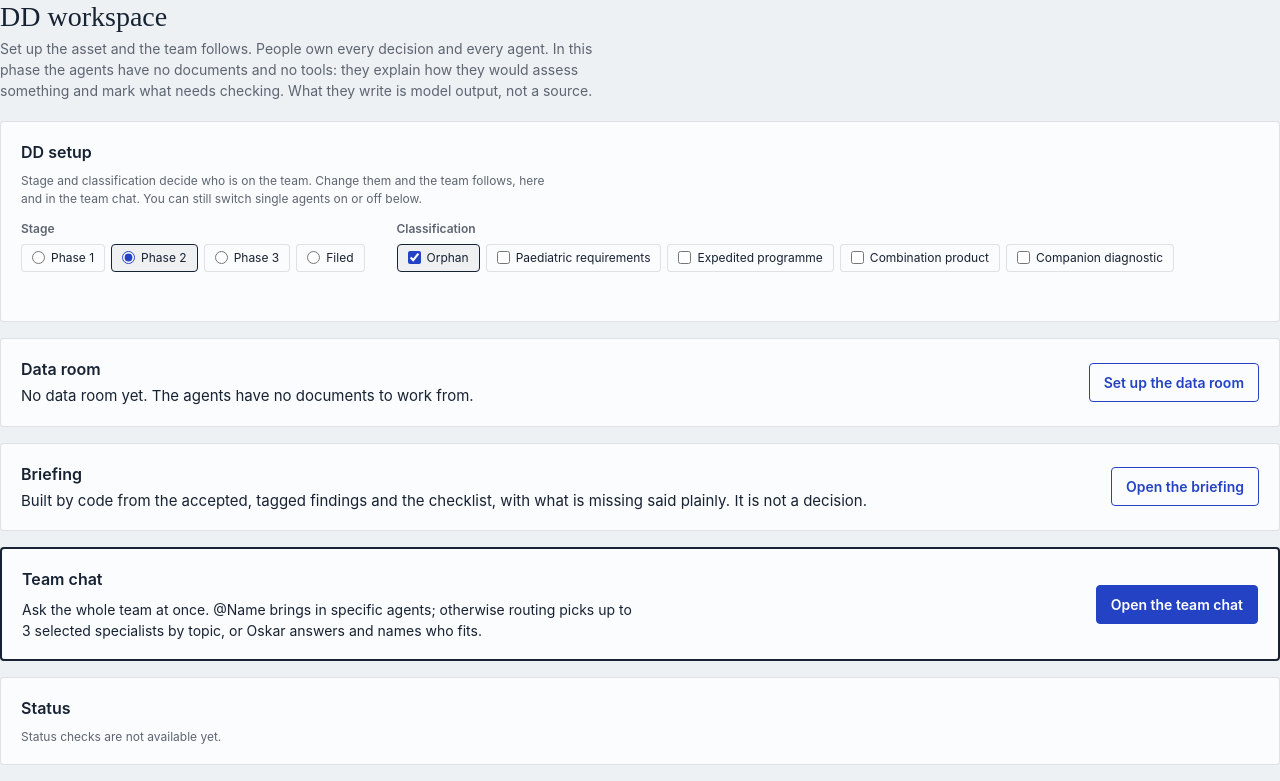
Test case: WorkspaceHome › moves the team when the stage changes: the card, the switch, the count and the note all follow from one save
Click the radio button labelled "Phase 3".
click(221, 258)  # box x1=215 y1=251 x2=228 y2=264
(page scrolled)
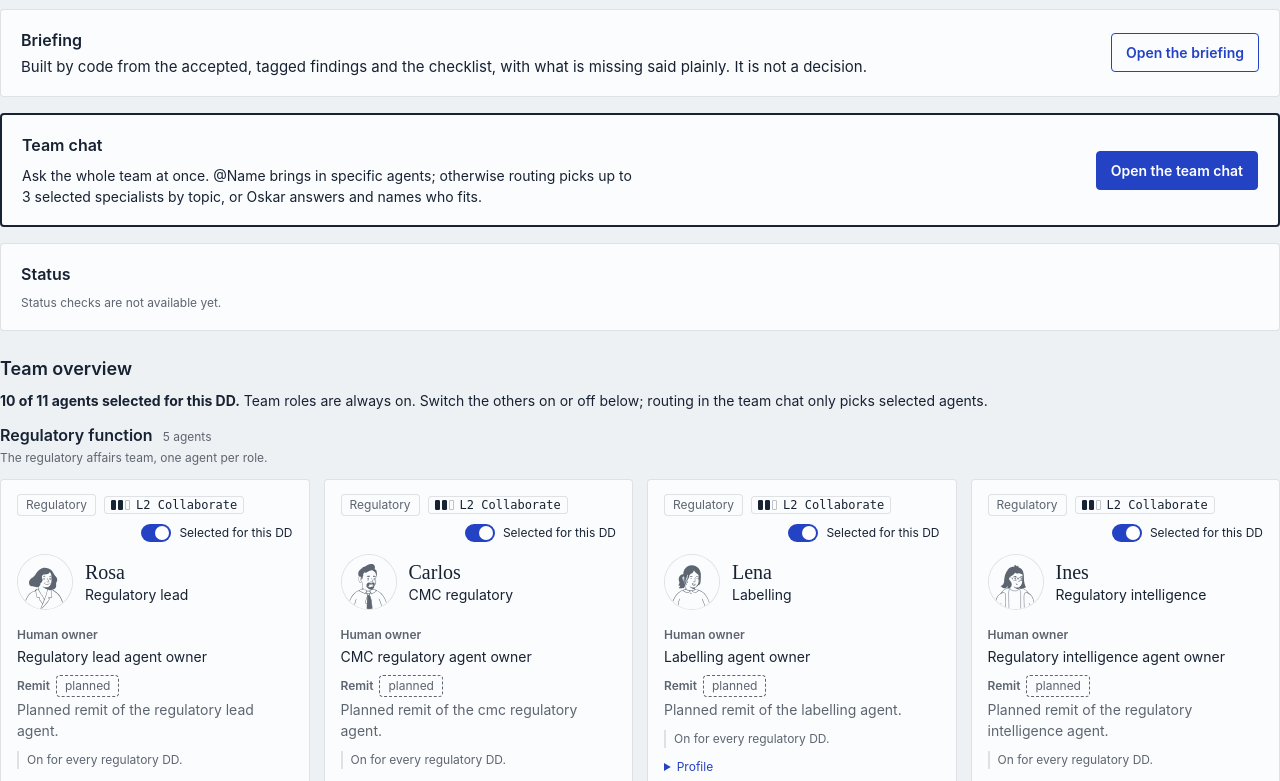
Now the text "10 of 11 agents selected for this DD." is shown, box x1=0 y1=392 x2=240 y2=409
